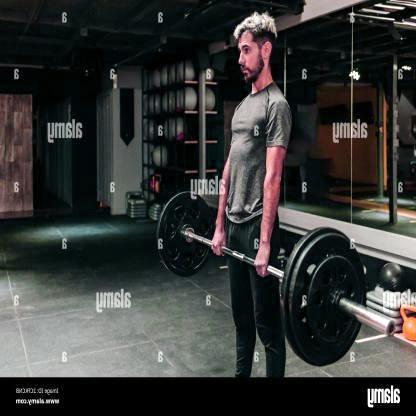Barbell: (380, 313, 397, 342)
